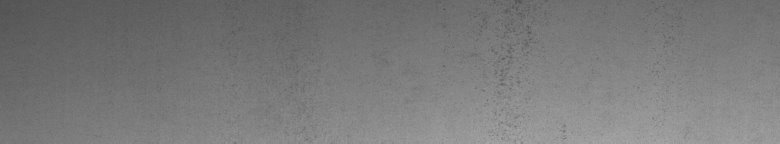ib: (471, 6, 566, 133)
